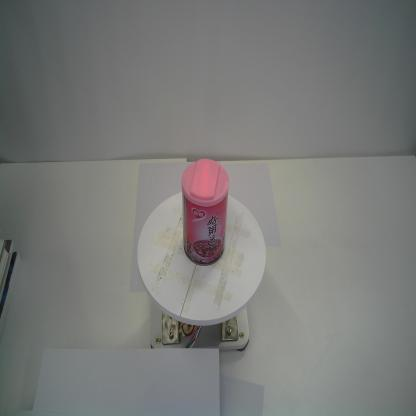Canned Food: (181, 158, 229, 267)
